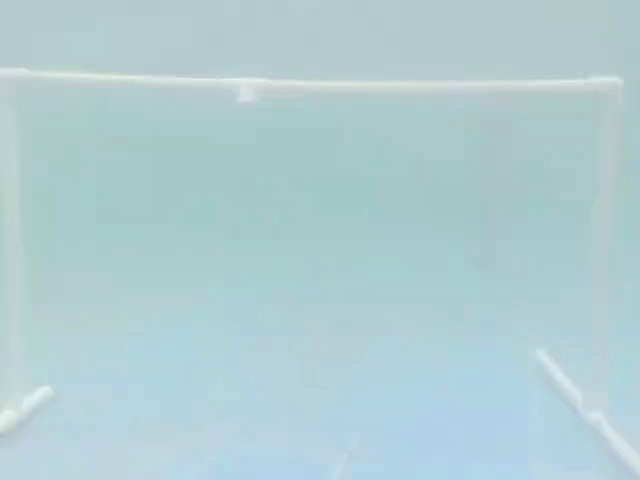gate: (4, 56, 634, 466)
